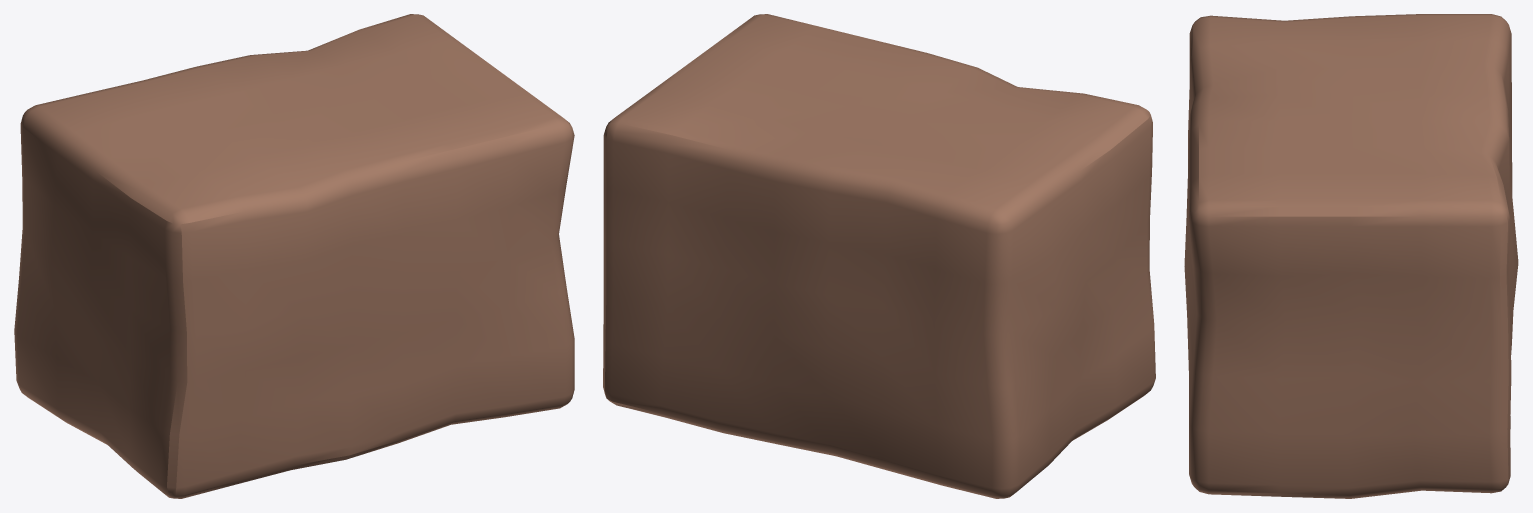
File: fbx_Block_Stone_01.fbx
3 views of the same model, side by side, from view 1: azimuth 30°, elevation 25°; view 2: azimuth 150°, elevation 25°; view 3: azimuth 270°, elevation 25° (orthographic).
Parts seen in each view (by area): view 1: Cube.002; view 2: Cube.002; view 3: Cube.002.
Boxes of the visible parts, x1,y1,x2,y2 form: Cube.002: (14, 14, 574, 498); Cube.002: (603, 14, 1155, 498); Cube.002: (1184, 14, 1518, 498).
Size of the model in its own units: 122 by 82.29 by 83.29.
